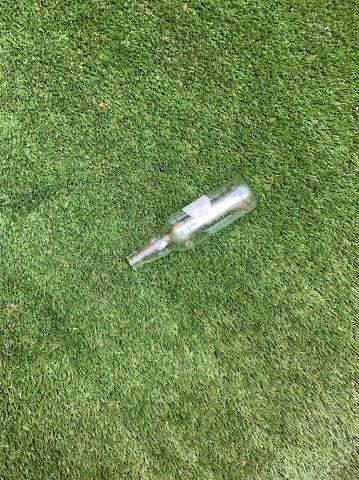botolkaca: (125, 181, 260, 270)
